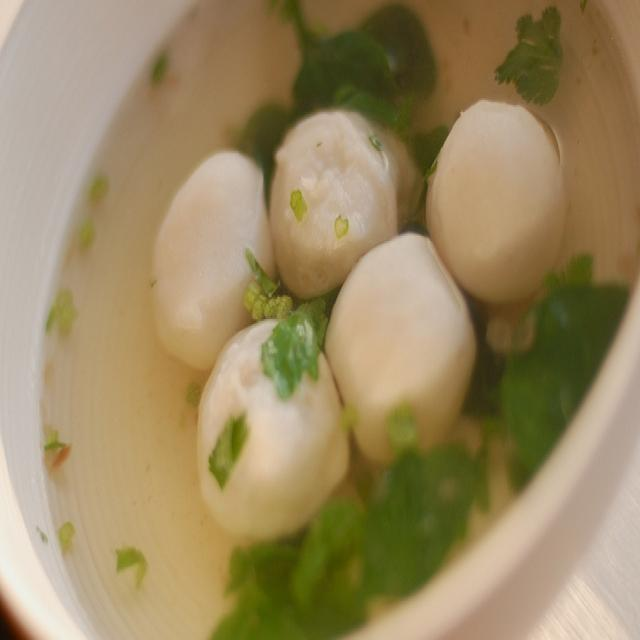熟制海鲜: (14, 24, 632, 623)
